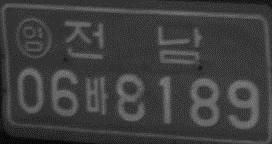0: (15, 66, 45, 114)
1: (150, 76, 184, 125)
6: (50, 69, 79, 118)
8: (114, 72, 147, 122), (187, 76, 219, 127)
9: (225, 78, 260, 130)
바: (84, 75, 108, 115)
영: (14, 17, 52, 59)
전남_D: (63, 20, 202, 64)
